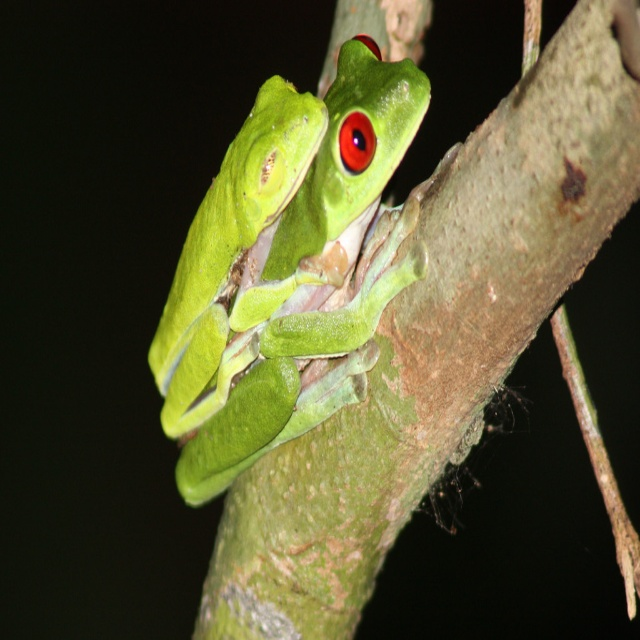Frog: (147, 34, 431, 509), (148, 73, 350, 442)
